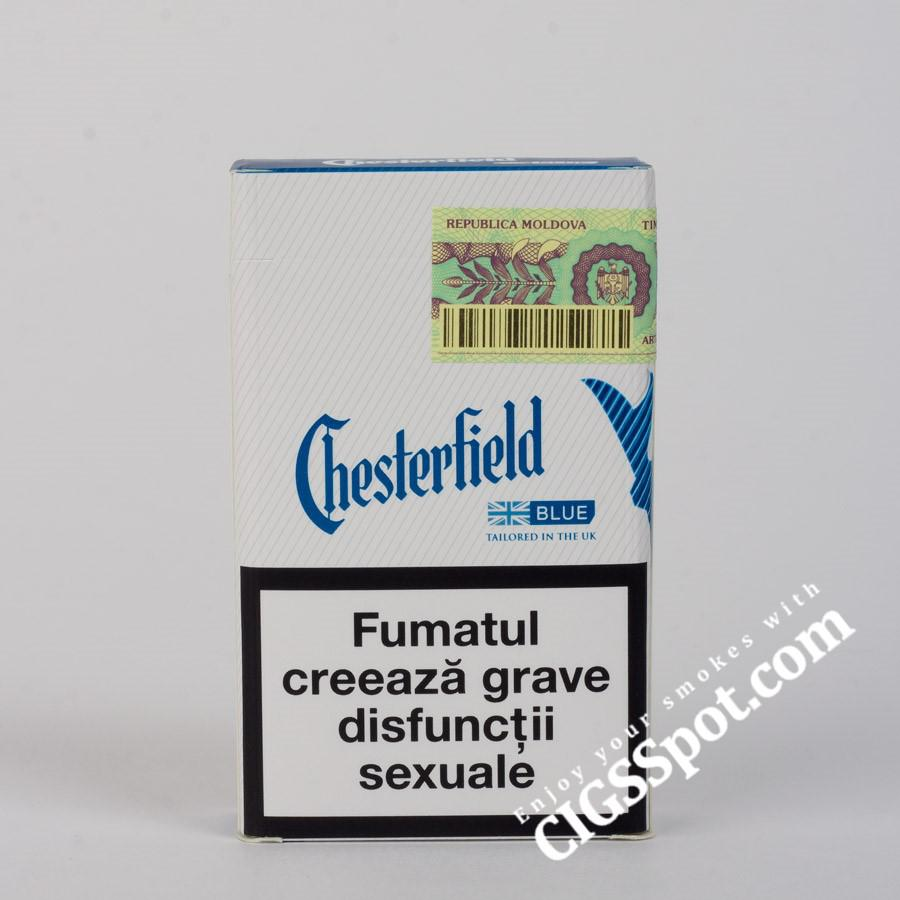chesterfield_blue: (236, 176, 646, 836)
